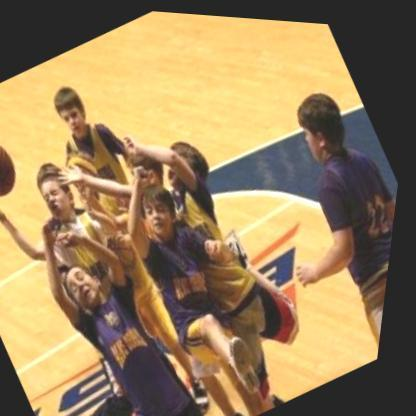basketball: (0, 127, 34, 207)
